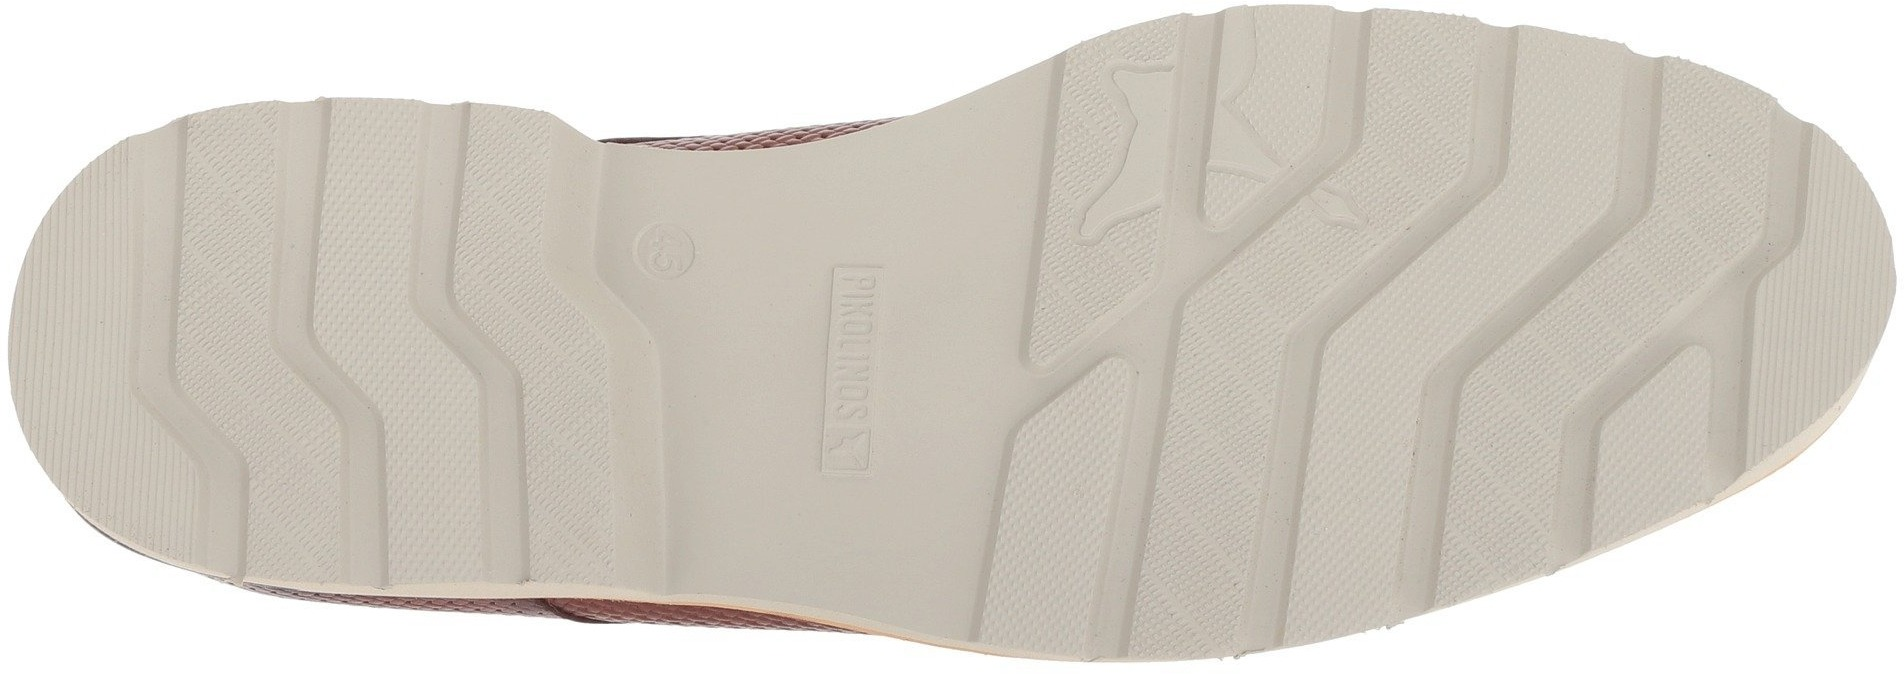chevron: (1144, 206, 1521, 576), (168, 236, 501, 553), (1547, 90, 1818, 336)
circle: (814, 240, 890, 498), (605, 208, 738, 310)
line: (1547, 90, 1818, 336), (46, 419, 161, 536), (19, 274, 123, 402), (1781, 253, 1885, 368)
quad: (956, 334, 1164, 669), (1557, 342, 1736, 583), (814, 240, 890, 498)
text: (814, 240, 890, 498), (605, 208, 738, 310), (814, 274, 912, 381), (799, 387, 863, 454)
